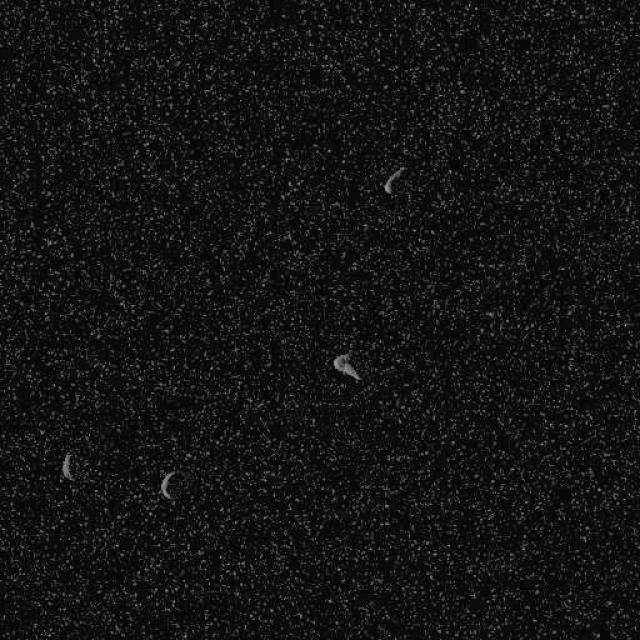D2: (331, 352, 361, 382), (382, 165, 407, 194), (159, 469, 175, 500), (60, 451, 75, 481)
